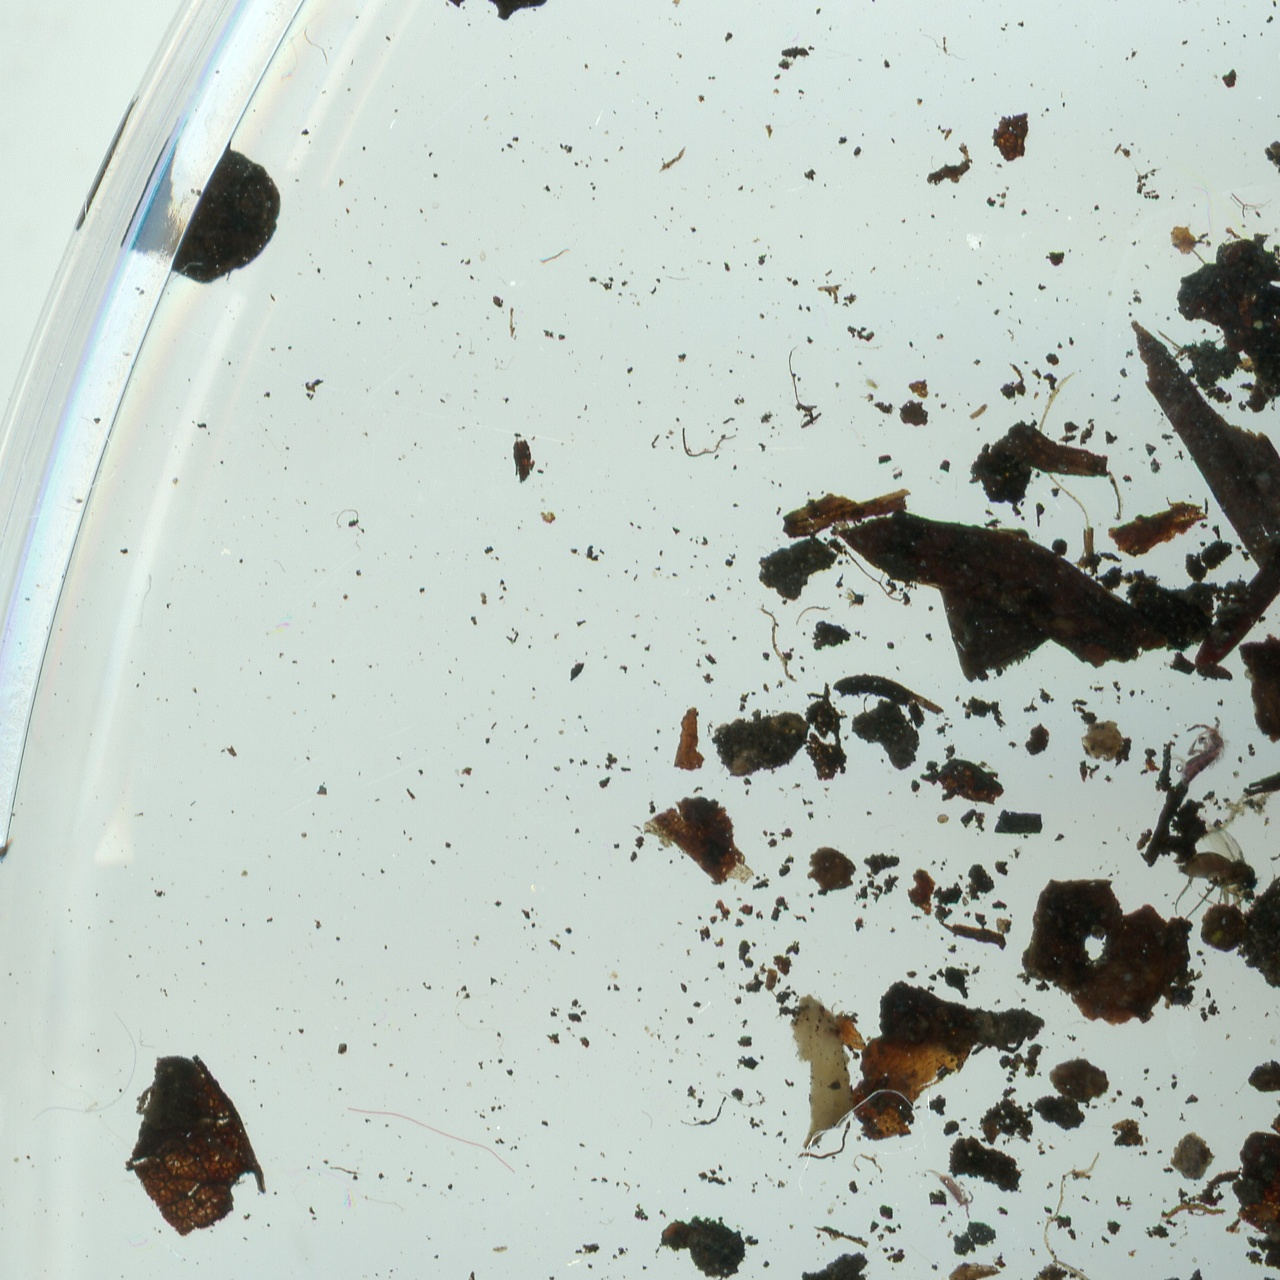arthropod: (1172, 824, 1259, 927), (1180, 714, 1225, 785), (927, 1167, 976, 1219)
